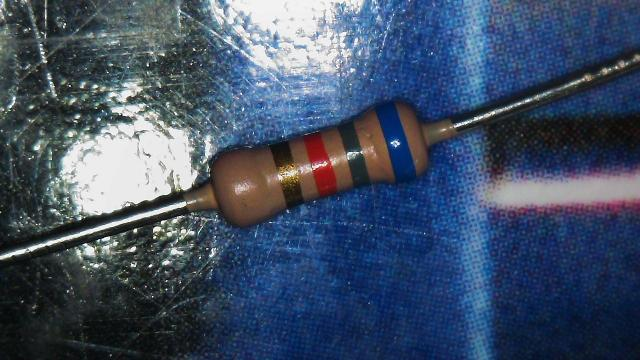blue: (374, 103, 417, 182)
gold: (272, 141, 301, 206)
grey: (337, 120, 368, 186)
orange: (304, 132, 335, 195)
resistor: (174, 68, 472, 267)
